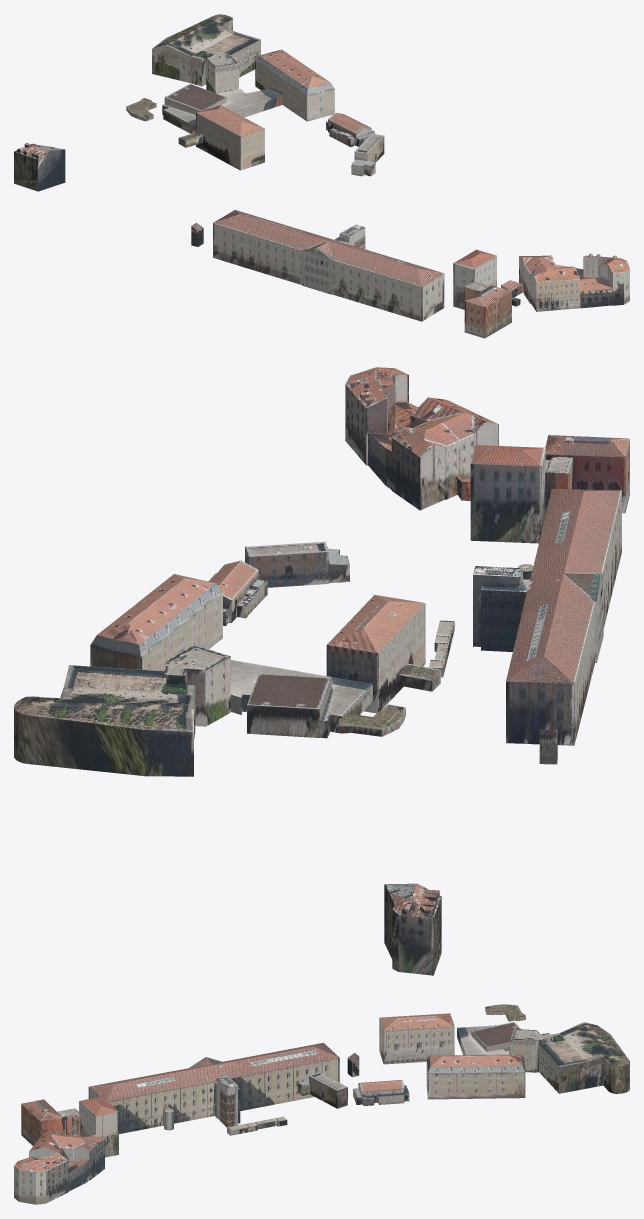
File: LYON_1ER_00120.dae
3 renders of one model, top to bottom at view 1: azimuth 30°, elevation 25°; view 2: azimuth 150°, elevation 25°; view 3: azimuth 270°, elevation 25°, orthographic. The views are drawn at different scales.
Bounding box in the file's own units: 191 × 309 × 61.74.
Materials: 1 (1 with a texture image).
